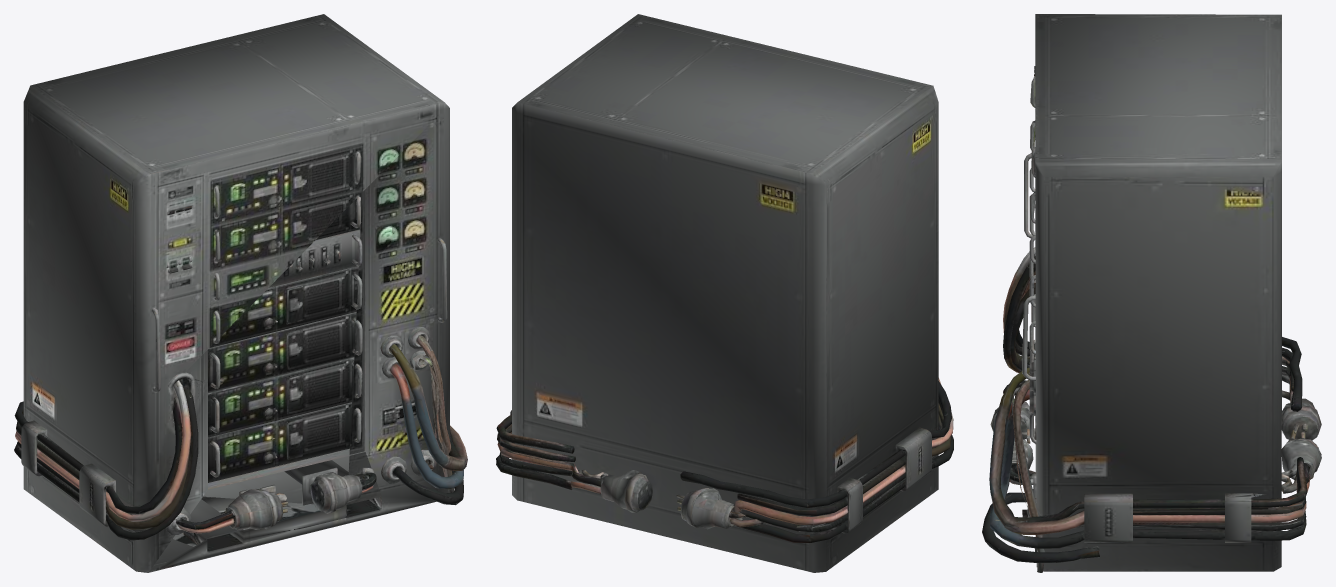
File: datacenter_ups_battery_cabinet.glb
3 renders of one model, left to right at view 1: azimuth 30°, elevation 25°; view 2: azimuth 150°, elevation 25°; view 3: azimuth 270°, elevation 25°, orthographic. The views are drawn at different scales.
Bounding box in the file's own units: 0.8613 × 0.9502 × 0.7197.
Materials: 1 (1 with a texture image).
